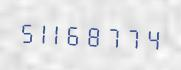eight: (89, 19, 106, 50)
five: (17, 16, 34, 47)
four: (143, 22, 160, 53)
one: (35, 17, 52, 47), (53, 18, 70, 48)
seven: (107, 20, 124, 51), (125, 21, 142, 52)
six: (71, 19, 88, 49)
